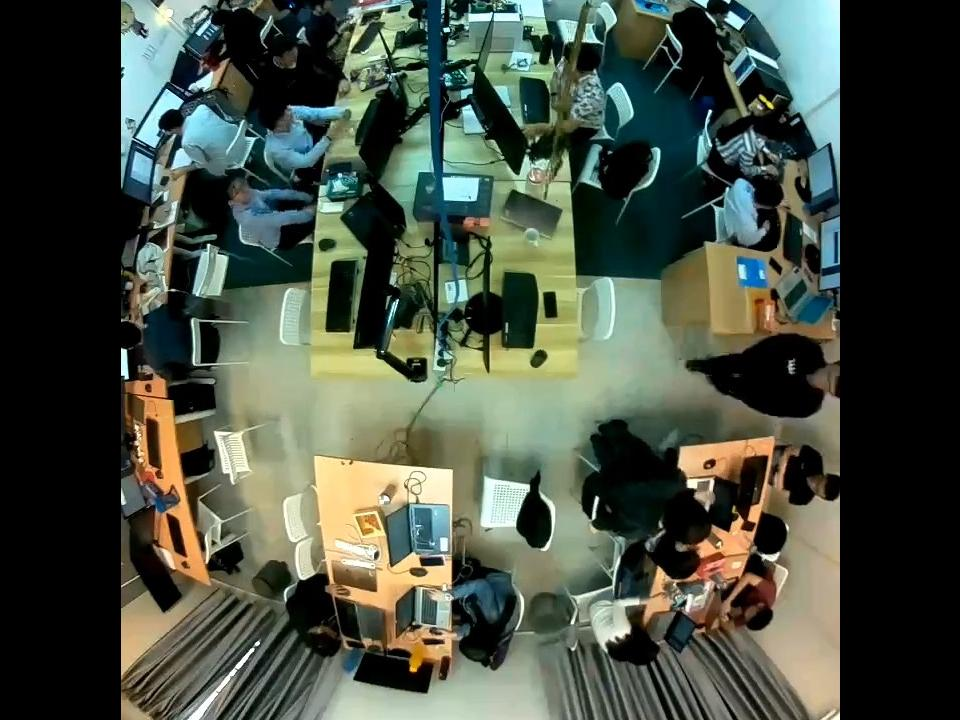name-tag: (786, 357, 796, 375)
